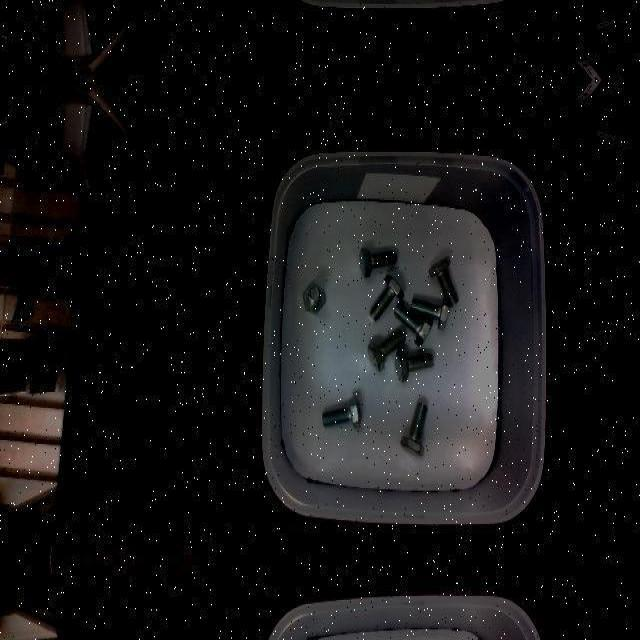screw: (369, 274, 404, 322), (394, 303, 433, 345), (367, 330, 405, 372), (428, 256, 459, 306), (399, 402, 427, 456), (410, 297, 450, 331), (322, 395, 361, 429), (395, 350, 434, 382), (360, 246, 397, 276), (302, 283, 325, 313)
